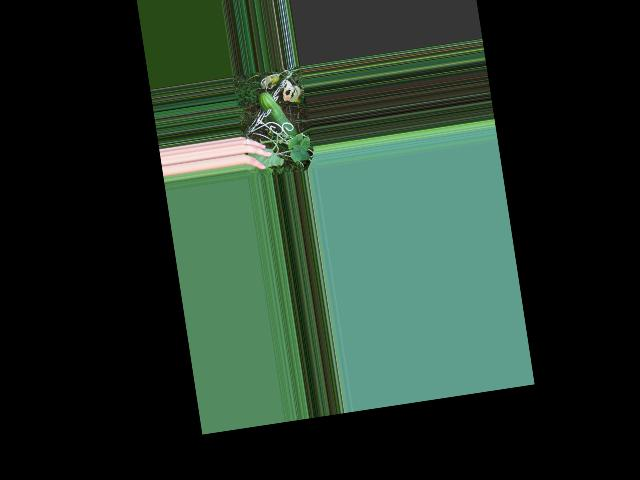cucumber: (257, 88, 297, 141)
